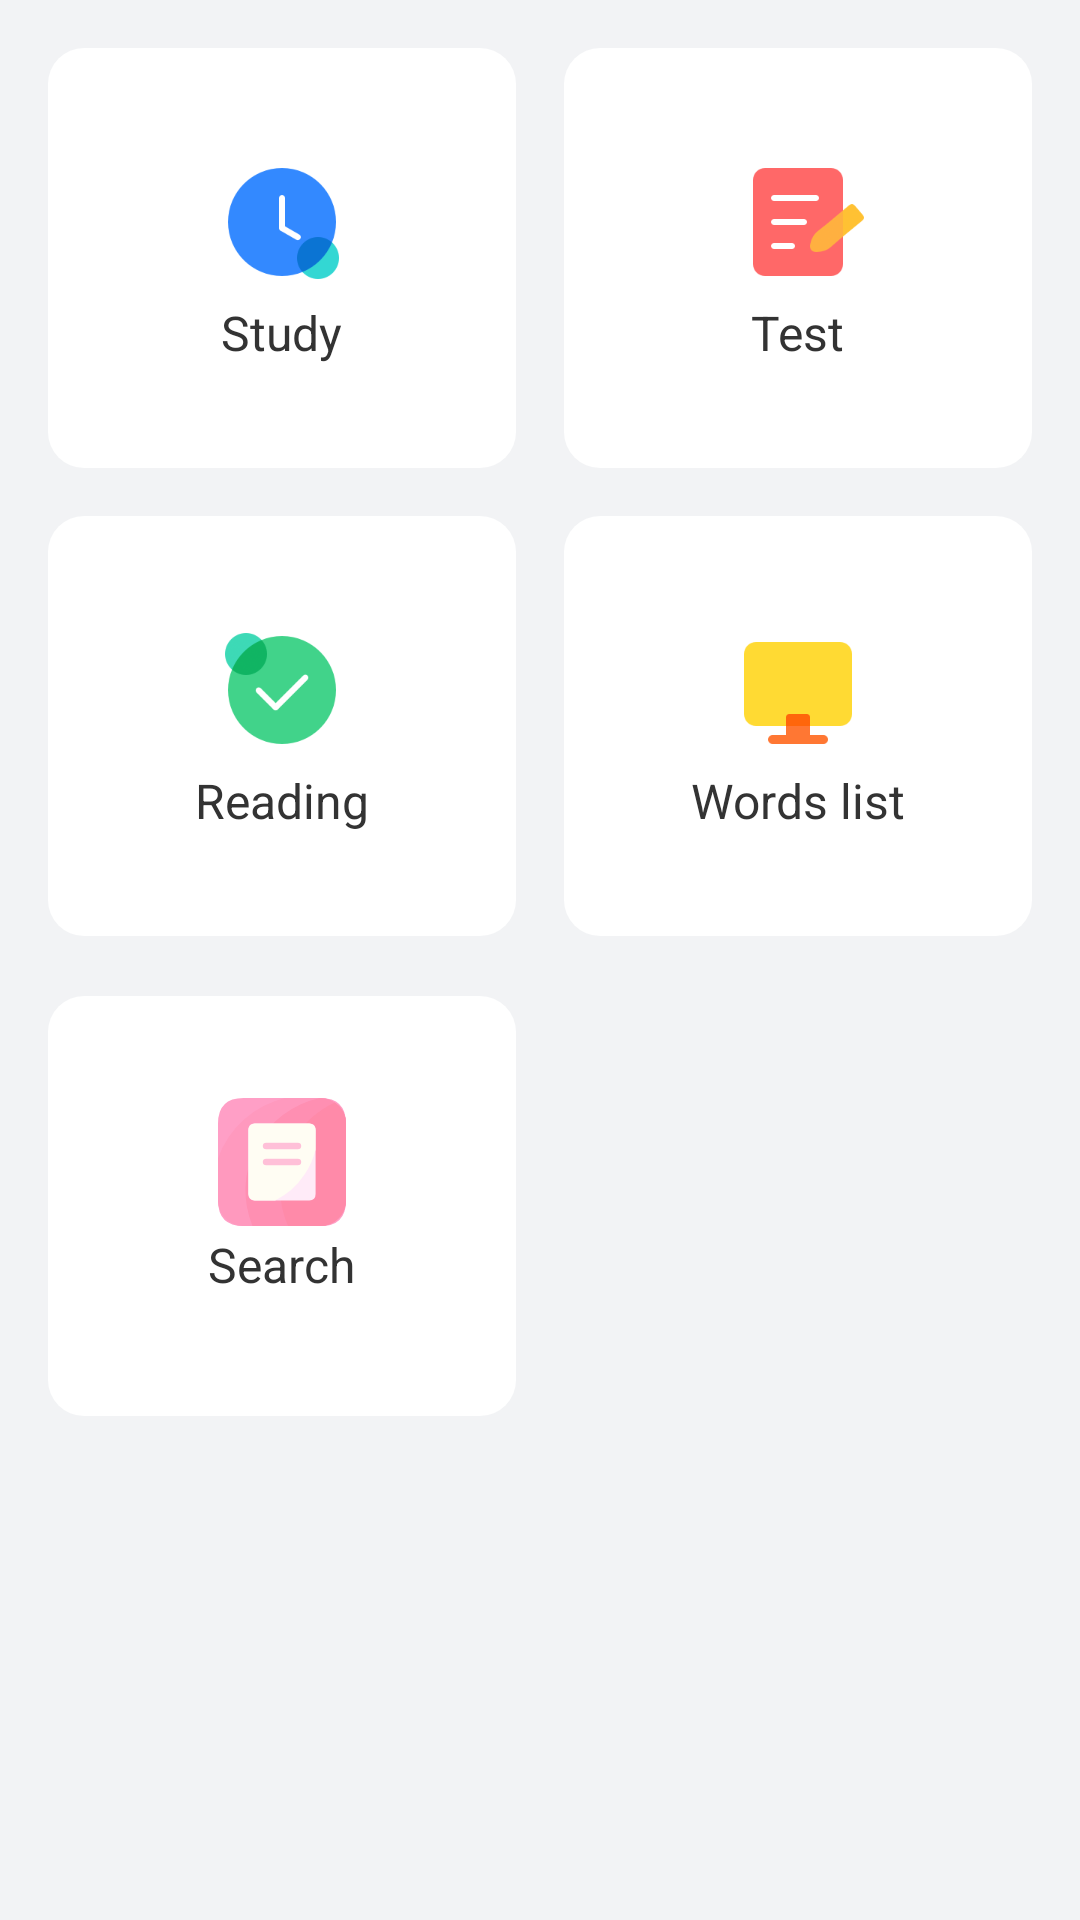

Where to tap for icons on this 1080px x 1920px app screen, as point (x, y):
exam: point (808, 222)
